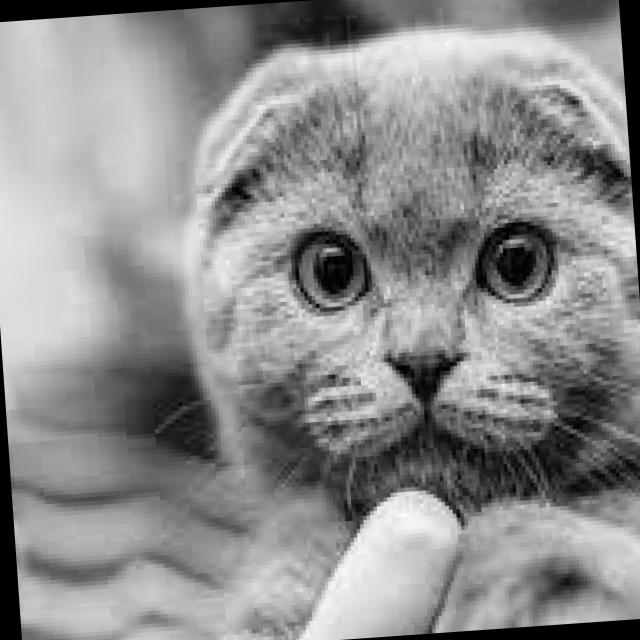scootish: (158, 0, 640, 582)
